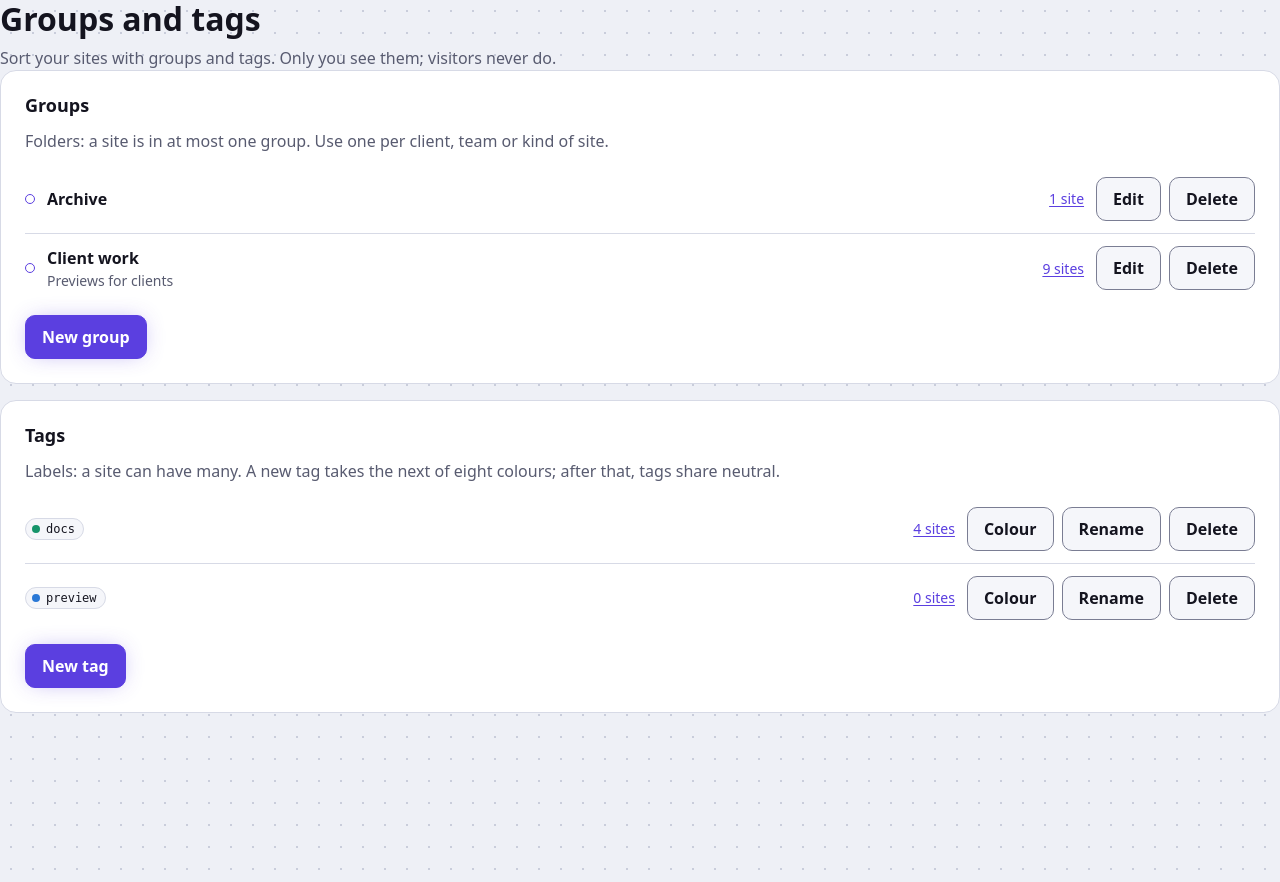
Test case: groups › creates a group, keeping the list in name order
Click the button "New group" at (86, 337), box [25, 315, 147, 359]
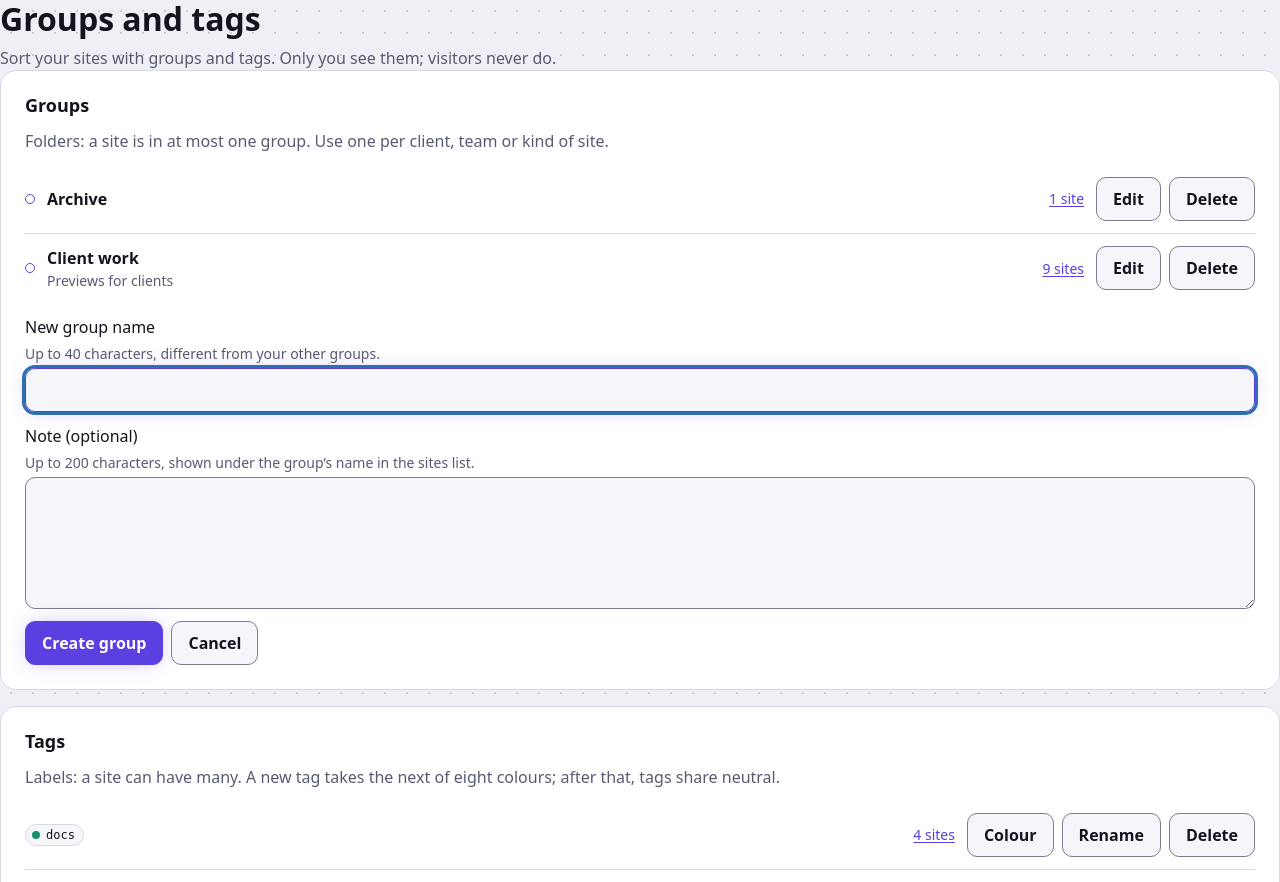
Type "  Blog " into the field labelled "New group name" at (640, 390), box [25, 368, 1255, 412]
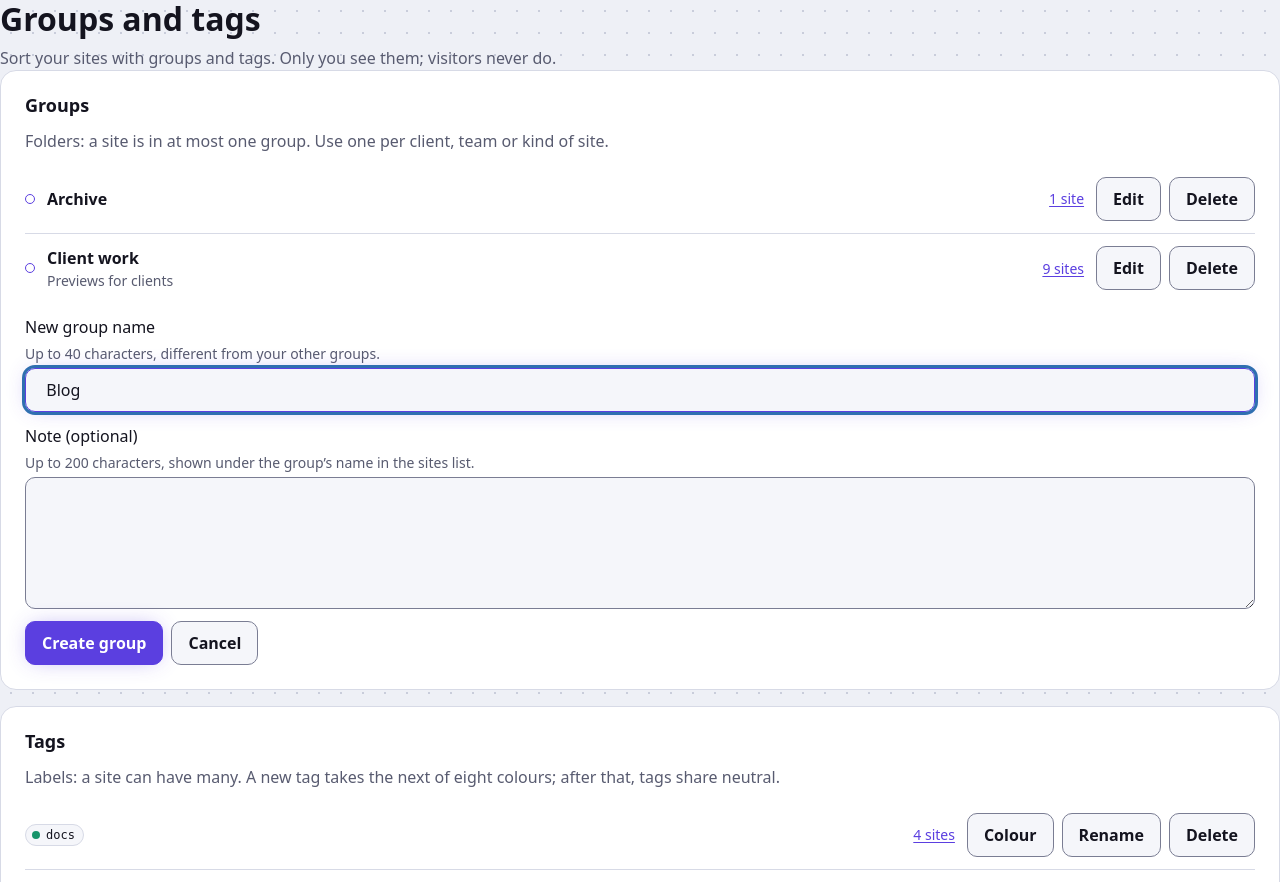
Click the button "Create group" at (94, 643), box [25, 621, 163, 665]
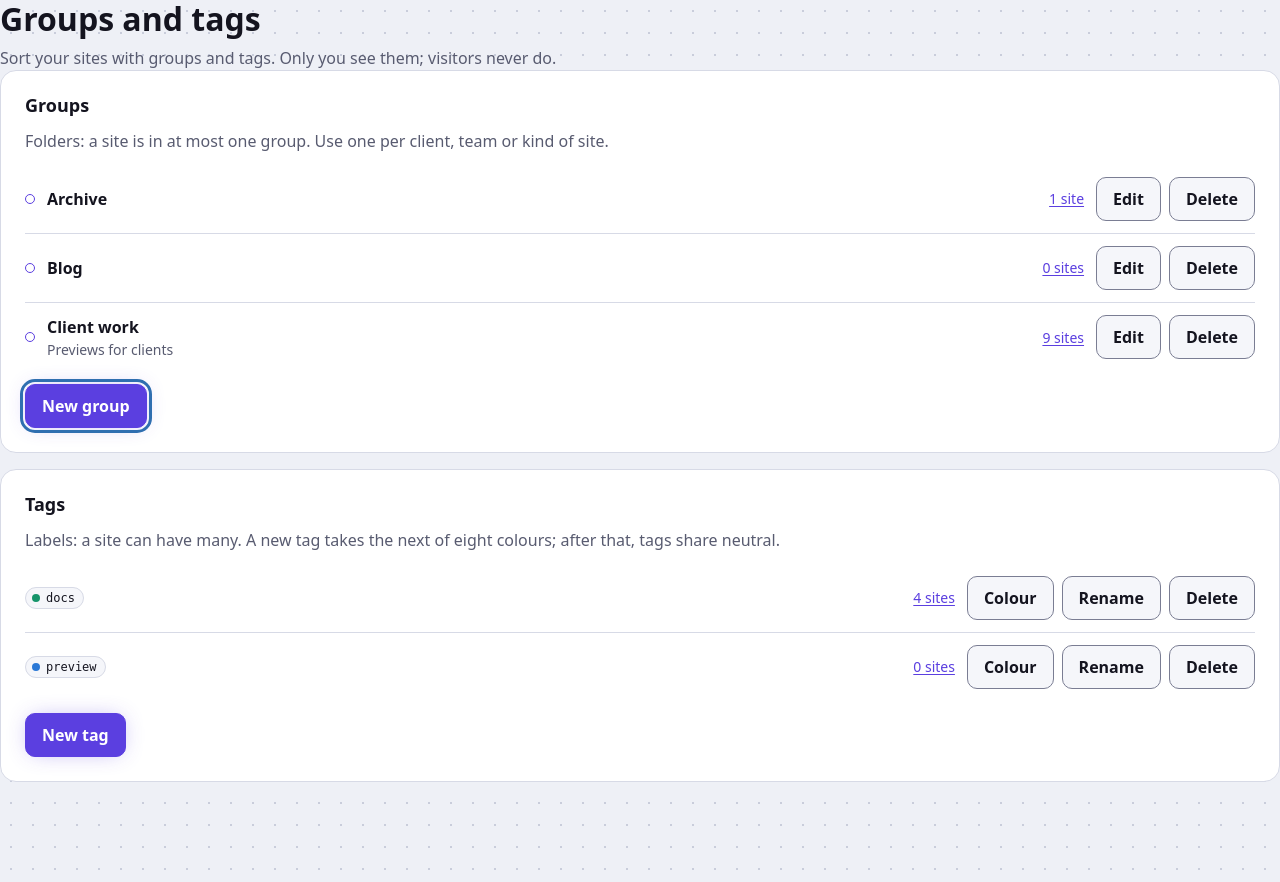
expect the field is gone: met
